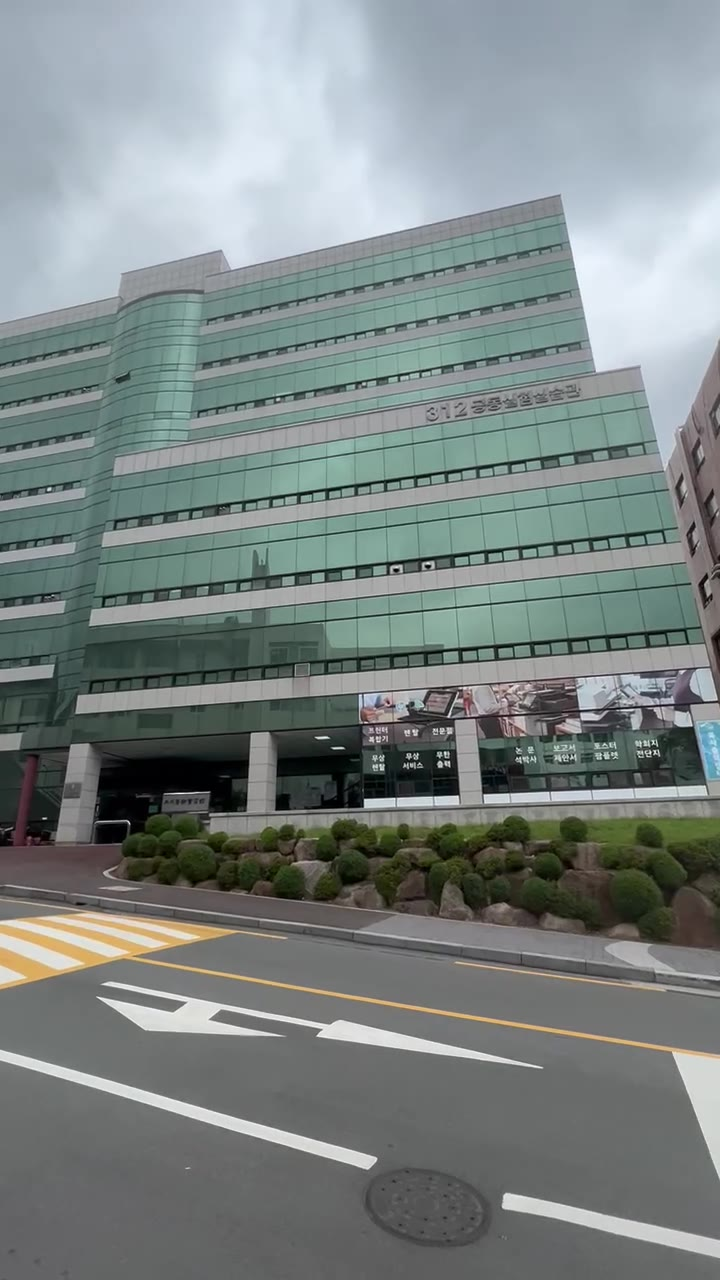low: (22, 240, 684, 686)
